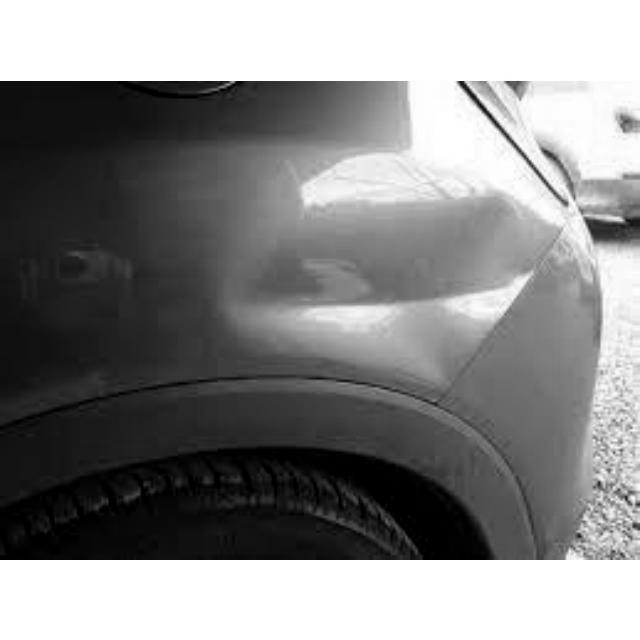quaterpanel-dent: (8, 81, 521, 538)
